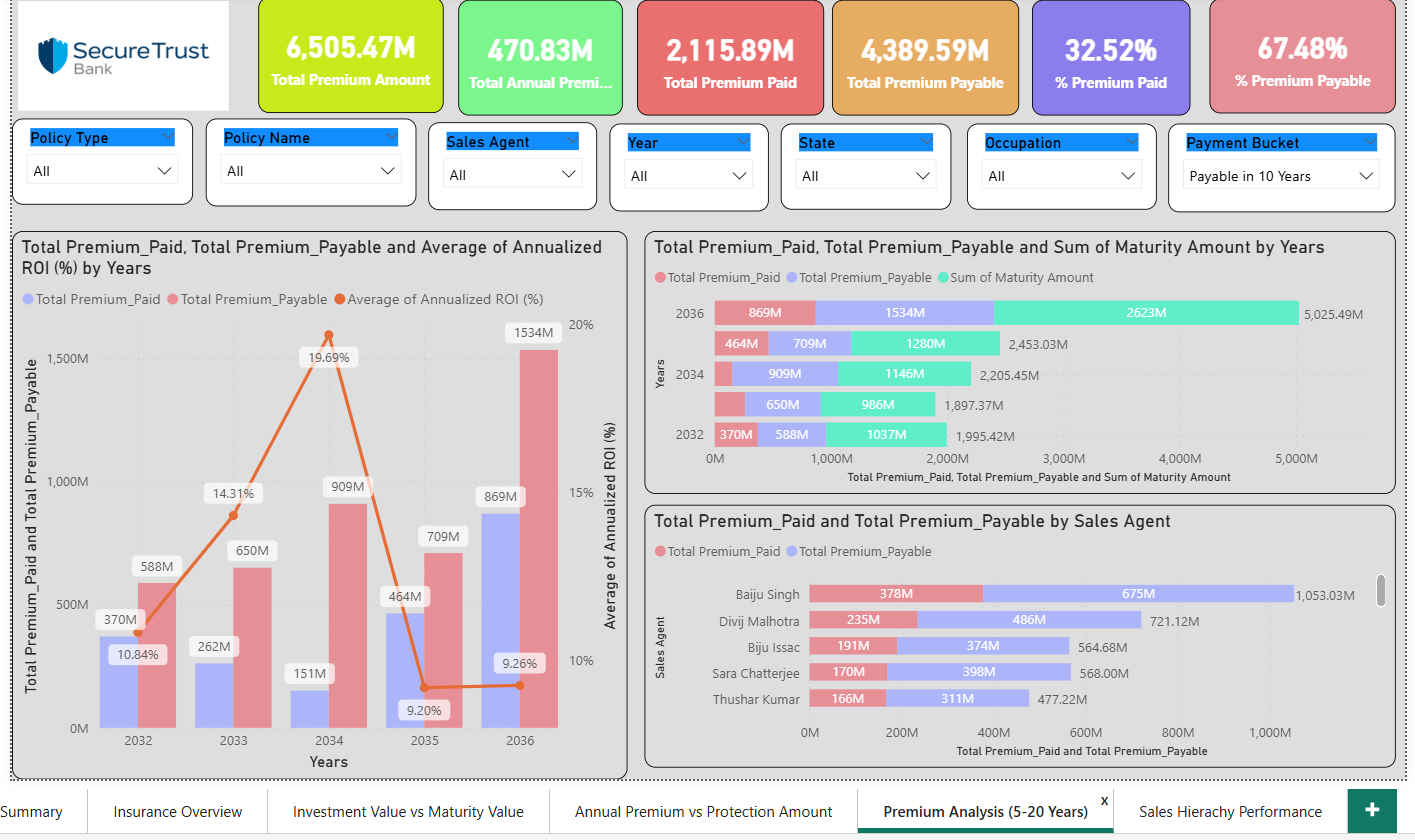

The page's visual inventory and layout, read from the dashboard file:
{"tool":"powerbi","page":{"name":"Premium Analysis (5-20 Years)","canvas":[1280,720],"ordinal":4},"visuals":[{"type":"card","fields":{"Values":["Sum(FCT Insurance_Policy_Table.Total Annual Premium)"]},"box":[410.3,2.9,151.5,106.8],"z":0},{"type":"card","fields":{"Values":["Sum(FCT Insurance_Policy_Table.Total Premium Amount)"]},"box":[226.5,1.4,170.2,106.8],"z":1000},{"type":"card","fields":{"Values":["Sum(FCT Insurance_Policy_Table.Total Premium Paid)"]},"box":[574.2,2.9,171.7,106.8],"z":2000},{"type":"card","fields":{"Values":["Sum(FCT Insurance_Policy_Table.Total Premium Payable)"]},"box":[753.1,2.9,171.7,106.8],"z":3000},{"type":"card","fields":{"Values":["Measure Table.% Premium Paid"]},"box":[937.8,2.9,145.7,106.8],"z":4000},{"type":"slicer","fields":{"Values":["DM Policy_Type.Policy Type"]},"box":[0,112.7,166.7,79.4],"z":5000},{"type":"slicer","fields":{"Values":["DM Policy_Protection_Plan.Policy Name"]},"box":[177.8,112.7,193.7,81],"z":6000},{"type":"slicer","fields":{"Values":["DM Insurance_Agent_Table.Sales Agent"]},"box":[382.5,115.9,155.6,81],"z":7000},{"type":"slicer","fields":{"Values":["FCT Insurance_Policy_Table.Year"]},"box":[549.2,117.5,146,81],"z":8000},{"type":"slicer","fields":{"Values":["DM Customer_Detail_Table.State"]},"box":[706.3,117.5,157.1,79.4],"z":9000},{"type":"slicer","fields":{"Values":["DM Customer_Detail_Table.Occupation"]},"box":[877.8,117.5,174.6,79.4],"z":10000},{"type":"card","fields":{"Values":["Measure Table.% Premium Payable"]},"box":[1100,2.9,171.4,105.7],"z":11000},{"type":"lineClusteredColumnComboChart","fields":{"Y":["Measure Table.Total Premium_Paid","Measure Table.Total Premium_Payable"],"Y2":["Avg(FCT Insurance_Policy_Table.Annualized ROI (%))"],"Category":["FCT Insurance_Policy_Table.Tenure Date","FCT Insurance_Policy_Table.Date Hierarchy.Years","FCT Insurance_Policy_Table.Date Hierarchy.Quarters","FCT Insurance_Policy_Table.Date Hierarchy.Months","FCT Insurance_Policy_Table.Date Hierarchy.Days"]},"box":[0,215.7,565.7,504.3],"z":12000},{"type":"slicer","fields":{"Values":["FCT Insurance_Policy_Table.Payment Bucket"]},"box":[1062.9,117.1,208.6,81.4],"z":13000},{"type":"barChart","fields":{"Y":["Measure Table.Total Premium_Paid","Measure Table.Total Premium_Payable"],"Category":["DM Insurance_Agent_Table.Sales Agent"]},"box":[581.4,467.1,690,241.4],"z":14000},{"type":"barChart","fields":{"Category":["FCT Insurance_Policy_Table.Tenure Date","FCT Insurance_Policy_Table.Date Hierarchy.Years","FCT Insurance_Policy_Table.Date Hierarchy.Quarters","FCT Insurance_Policy_Table.Date Hierarchy.Months","FCT Insurance_Policy_Table.Date Hierarchy.Days"],"Y":["Measure Table.Total Premium_Paid","Measure Table.Total Premium_Payable","Sum(FCT Insurance_Policy_Table.Maturity Amount)"]},"box":[581.4,215.7,690,241.4],"z":15000},{"type":"image","box":[0,4.3,204.9,101],"z":16000}]}

Visuals, with their boxes on the page's 1280x720 design canvas (x1, y1, x2, y2). These are canvas units, not pixel positions in the 1415x840 screenshot, which may show the page scaled, cropped or inside an application window:
card - Sum(FCT Insurance_Policy_Table.Total Annual Premium): BBox(410, 3, 562, 110)
card - Sum(FCT Insurance_Policy_Table.Total Premium Amount): BBox(226, 1, 397, 108)
card - Sum(FCT Insurance_Policy_Table.Total Premium Paid): BBox(574, 3, 746, 110)
card - Sum(FCT Insurance_Policy_Table.Total Premium Payable): BBox(753, 3, 925, 110)
card - Measure Table.% Premium Paid: BBox(938, 3, 1084, 110)
slicer - DM Policy_Type.Policy Type: BBox(0, 113, 167, 192)
slicer - DM Policy_Protection_Plan.Policy Name: BBox(178, 113, 372, 194)
slicer - DM Insurance_Agent_Table.Sales Agent: BBox(382, 116, 538, 197)
slicer - FCT Insurance_Policy_Table.Year: BBox(549, 118, 695, 198)
slicer - DM Customer_Detail_Table.State: BBox(706, 118, 863, 197)
slicer - DM Customer_Detail_Table.Occupation: BBox(878, 118, 1052, 197)
card - Measure Table.% Premium Payable: BBox(1100, 3, 1271, 109)
lineClusteredColumnComboChart - Measure Table.Total Premium_Paid x Measure Table.Total Premium_Payable: BBox(0, 216, 566, 720)
slicer - FCT Insurance_Policy_Table.Payment Bucket: BBox(1063, 117, 1272, 198)
barChart - Measure Table.Total Premium_Paid x Measure Table.Total Premium_Payable: BBox(581, 467, 1271, 708)
barChart - FCT Insurance_Policy_Table.Tenure Date x FCT Insurance_Policy_Table.Date Hierarchy.Years: BBox(581, 216, 1271, 457)
image: BBox(0, 4, 205, 105)
